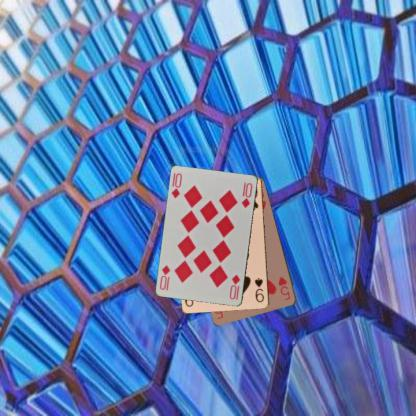10d: (227, 272, 242, 301), (169, 170, 183, 200)
5h: (276, 274, 291, 301)
9s: (253, 276, 265, 304)
